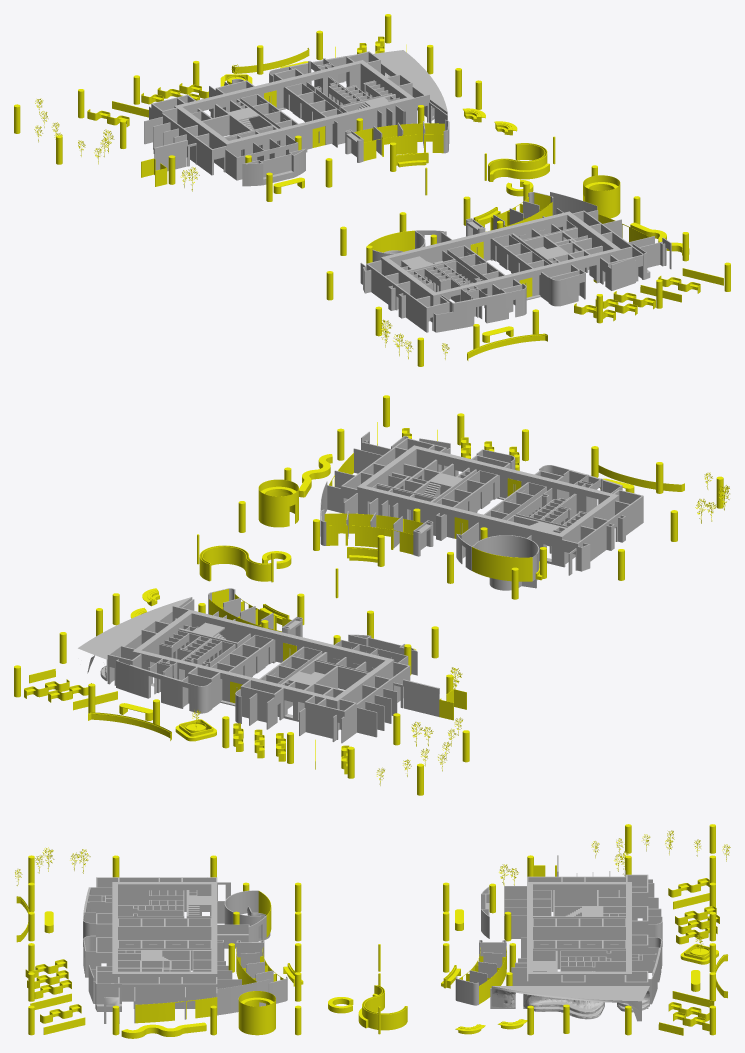
The model's file is sm_hana_building_11f_in.glb.
The picture shows the model from 3 angles, top to bottom: view 1: azimuth 30°, elevation 25°; view 2: azimuth 150°, elevation 25°; view 3: azimuth 270°, elevation 25°; orthographic projection. The views are drawn at different scales.
Visible parts, largest first — view 1: sm_hana_building_11f_in; view 2: sm_hana_building_11f_in; view 3: sm_hana_building_11f_in.
Boxes of the visible parts, x1,y1,x2,y2 form: sm_hana_building_11f_in: [14, 14, 730, 366]; sm_hana_building_11f_in: [14, 395, 729, 795]; sm_hana_building_11f_in: [15, 824, 730, 1038].
Size of the model in its own units: 60.17 by 5.87 by 96.83.
7 materials, 6 textured.
